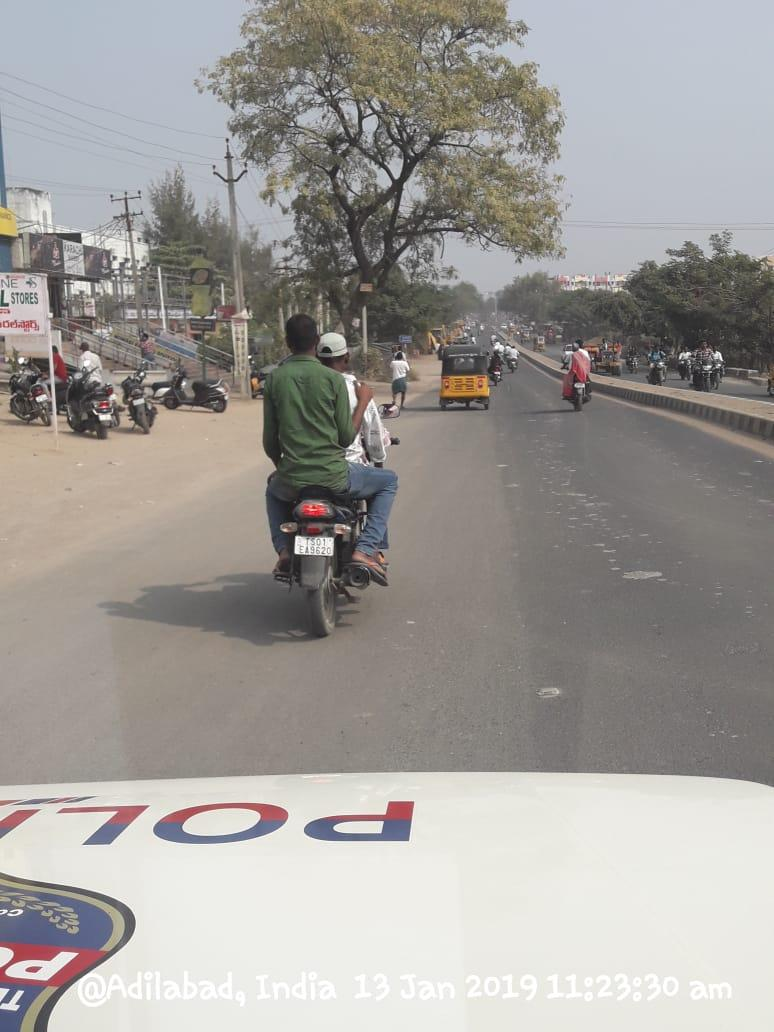plate: (285, 531, 343, 559)
